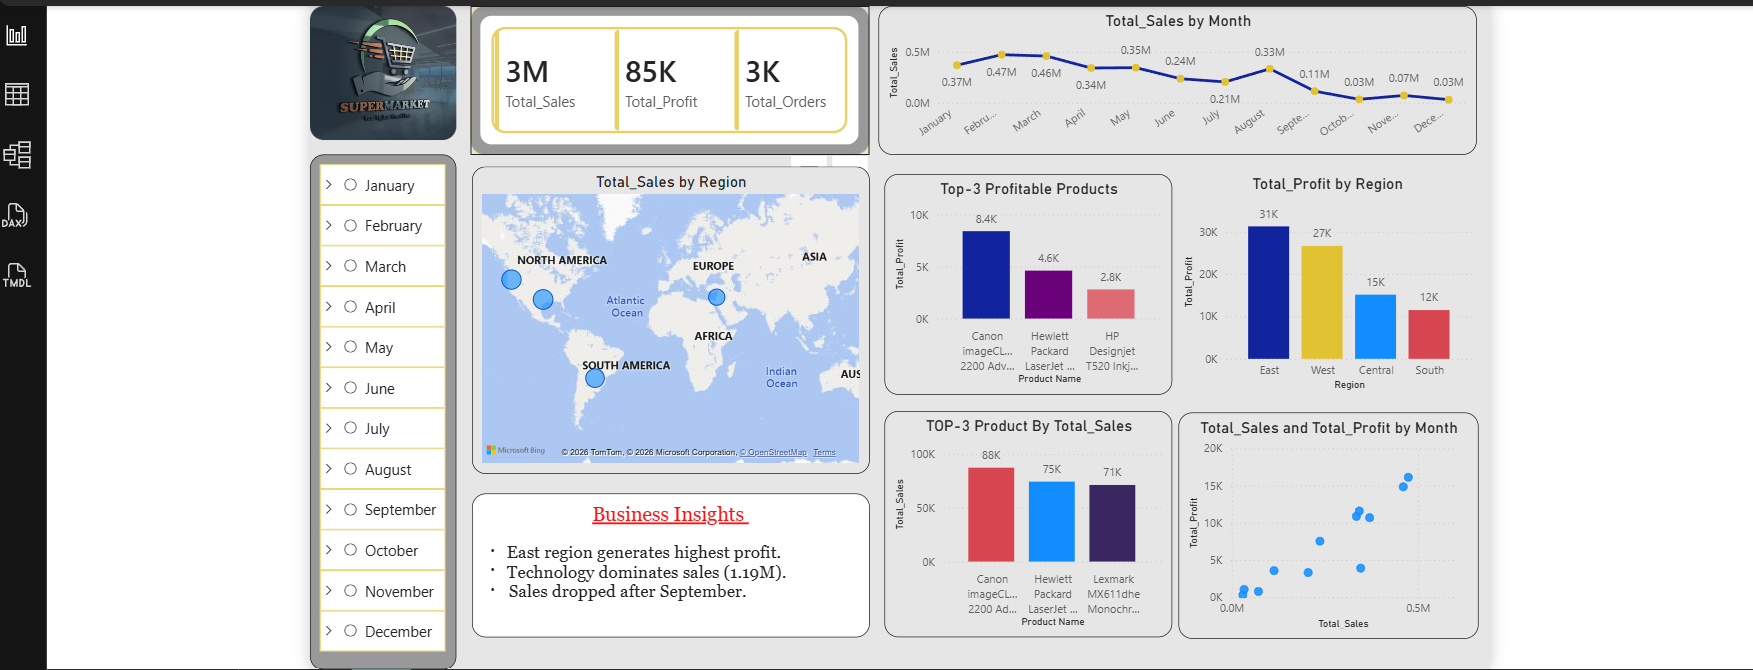

Layout of this report page (visuals, bound fields, positions):
{"tool":"powerbi","page":{"name":"Page 1","canvas":[1280,720],"ordinal":0},"visuals":[{"type":"image","box":[0,0,158.7,145.5],"z":0},{"type":"listSlicer","fields":{"Values":["Superstore.Order Date.Variation.Date Hierarchy.Month","Superstore.Order Date.Variation.Date Hierarchy.Day"]},"box":[0,160.6,158.7,559.4],"z":1000},{"type":"cardVisual","fields":{"Data":["Superstore.Total_Sales","Superstore.Total_Profit","Superstore.Total_Orders"]},"box":[174,0,432.7,161],"z":2000},{"type":"lineChart","fields":{"Y":["Superstore.Total_Sales"],"Category":["Superstore.Order Date.Variation.Date Hierarchy.Month"]},"box":[616.5,0,649,161],"z":3000},{"type":"map","fields":{"Size":["Superstore.Total_Sales"],"Category":["Superstore.Region"]},"box":[175.7,174,431,333.4],"z":5000},{"type":"scatterChart","fields":{"X":["Superstore.Total_Sales"],"Y":["Superstore.Total_Profit"],"Category":["Superstore.Order Date.Variation.Date Hierarchy.Month","Superstore.Order Date.Variation.Date Hierarchy.Day"]},"box":[941.8,440.8,325.3,245.6],"z":6000},{"type":"clusteredColumnChart","title":"TOP-3 Product By Total_Sales","fields":{"Y":["Superstore.Total_Sales"],"Category":["Superstore.Product Name"]},"box":[623,439.2,312.3,245.6],"z":7000},{"type":"clusteredColumnChart","title":"Top-3 Profitable Products","fields":{"Category":["Superstore.Product Name"],"Y":["Superstore.Total_Profit"]},"box":[623,182.2,312.3,239.1],"z":8000},{"type":"clusteredColumnChart","fields":{"Category":["Superstore.Region"],"Y":["Superstore.Total_Profit"]},"box":[941.8,182.2,323.7,239.1],"z":9000},{"type":"textbox","box":[175.7,528.6,431,156.1],"z":9001}]}

Visuals, with their boxes in screenshot pixels (x1, y1, x2, y2):
image: bbox=(0, 0, 36, 134)
listSlicer - Superstore.Order Date.Variation.Date Hierarchy.Month x Superstore.Order Date.Variation.Date Hierarchy.Day: bbox=(0, 148, 36, 662)
cardVisual - Superstore.Total_Sales x Superstore.Total_Profit: bbox=(50, 0, 448, 148)
lineChart - Superstore.Total_Sales x Superstore.Order Date.Variation.Date Hierarchy.Month: bbox=(457, 0, 1054, 148)
map - Superstore.Total_Sales x Superstore.Region: bbox=(52, 160, 448, 466)
scatterChart - Superstore.Total_Sales x Superstore.Total_Profit: bbox=(756, 405, 1055, 631)
"TOP-3 Product By Total_Sales" clusteredColumnChart: bbox=(463, 404, 750, 629)
"Top-3 Profitable Products" clusteredColumnChart: bbox=(463, 167, 750, 387)
clusteredColumnChart - Superstore.Region x Superstore.Total_Profit: bbox=(756, 167, 1054, 387)
textbox: bbox=(52, 486, 448, 629)
